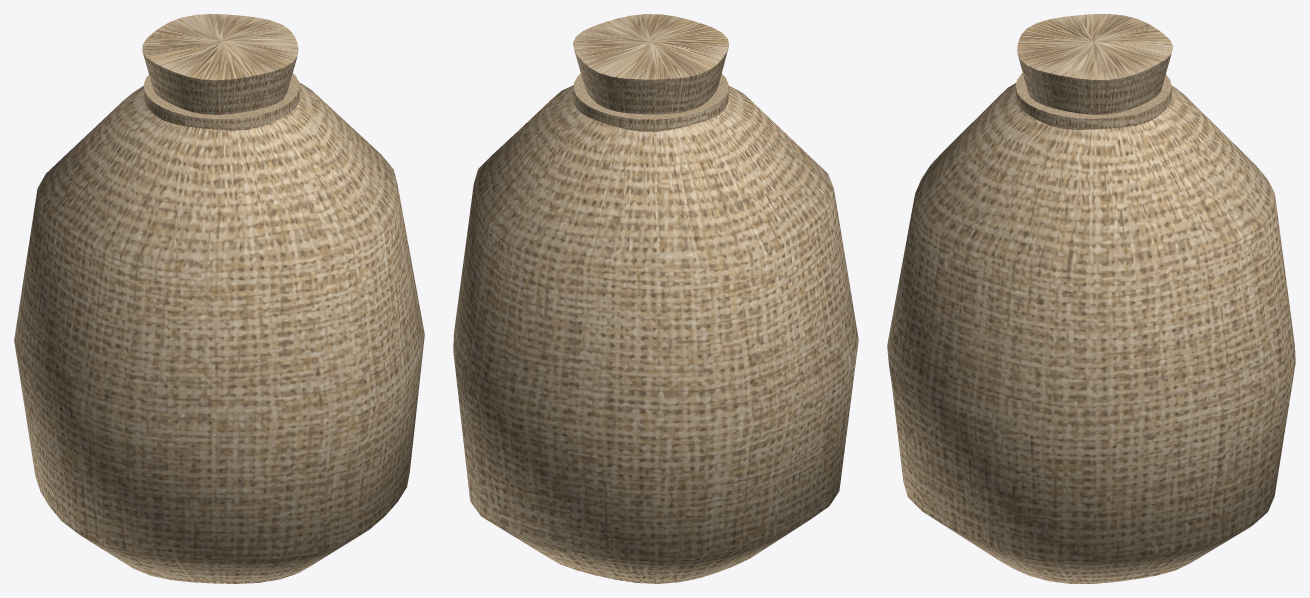
Rendered from 27_Saco.obj.
3 renders of one model, left to right at view 1: azimuth 30°, elevation 25°; view 2: azimuth 150°, elevation 25°; view 3: azimuth 270°, elevation 25°, orthographic.
Parts seen in each view (by area): view 1: 27_Saco_Cloth, 27_Saco_Rope; view 2: 27_Saco_Cloth, 27_Saco_Rope; view 3: 27_Saco_Cloth, 27_Saco_Rope.
Part boxes in pixels (x1,y1,x2,y2): 27_Saco_Cloth: (14,14,424,583); 27_Saco_Rope: (144,73,299,130); 27_Saco_Cloth: (453,14,858,583); 27_Saco_Rope: (573,73,728,131); 27_Saco_Cloth: (887,14,1295,583); 27_Saco_Rope: (1015,73,1171,129).
Size of the model in its own units: 0.6803 by 0.91 by 0.6814.
Materials: 2 (2 with a texture image).
